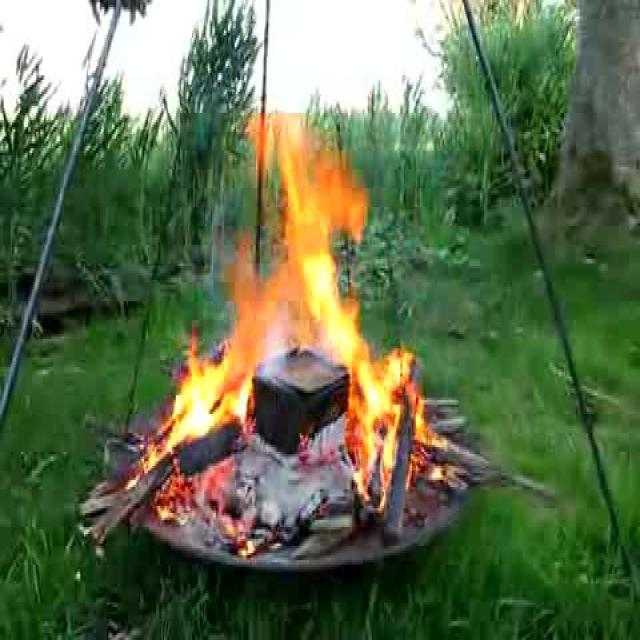fire: (225, 129, 412, 446), (172, 356, 223, 444)
